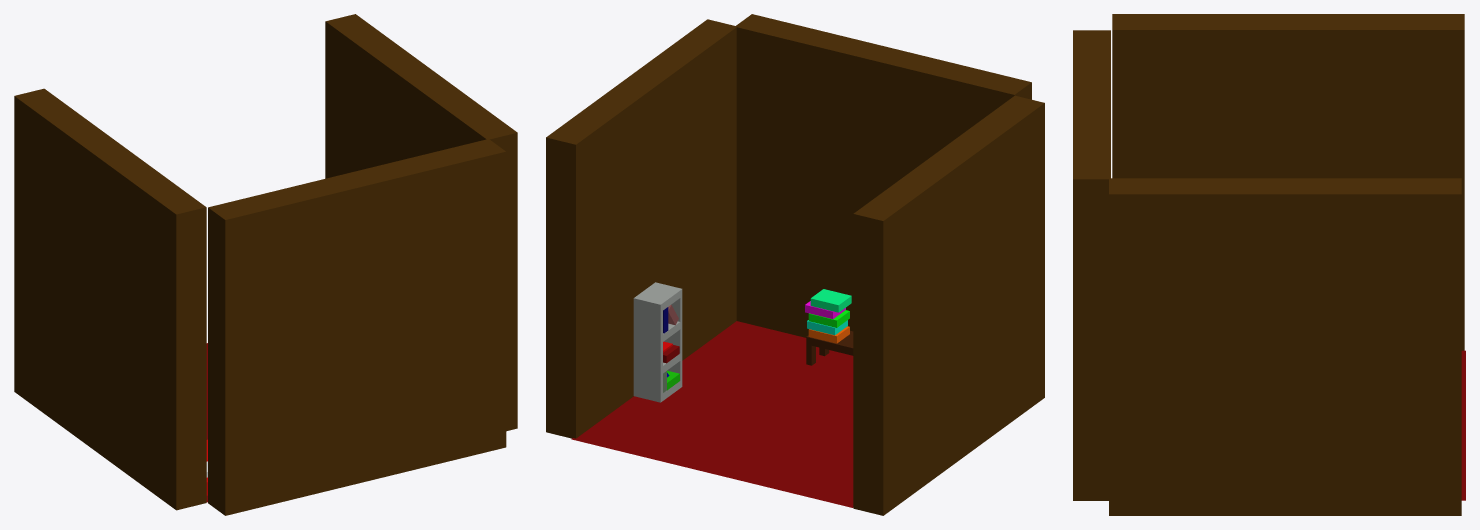
3 renders of one model, left to right at view 1: azimuth 30°, elevation 25°; view 2: azimuth 150°, elevation 25°; view 3: azimuth 270°, elevation 25°, orthographic. The views are drawn at different scales.
Visible parts, largest first — view 1: cuboid (×3); view 2: cuboid (×8), plane; view 3: cuboid (×3), plane.
Boxes of the visible parts, x1,y1,x2,y2 form: cuboid (×3): [14, 14, 517, 515]; cuboid (×8): [546, 14, 1044, 515]; plane: [571, 321, 853, 507]; cuboid (×3): [1073, 14, 1464, 515]; plane: [1461, 350, 1465, 500].
Bounding box in the file's own units: 11.27 × 9.38 × 10.38.
1 material, 1 textured.
